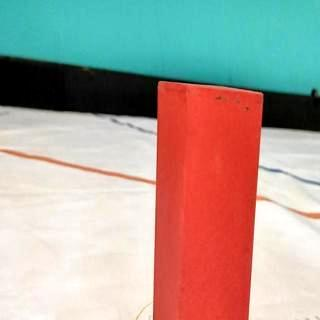redbox: (154, 77, 264, 320)
